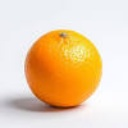orange: (23, 27, 102, 110)
